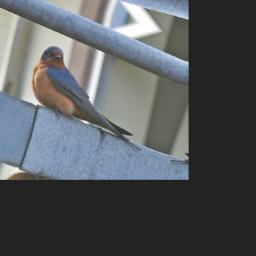Swallow: (21, 41, 161, 152)
